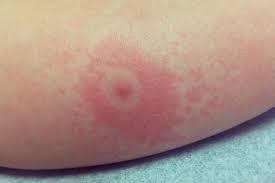Tick: (70, 35, 185, 146)
